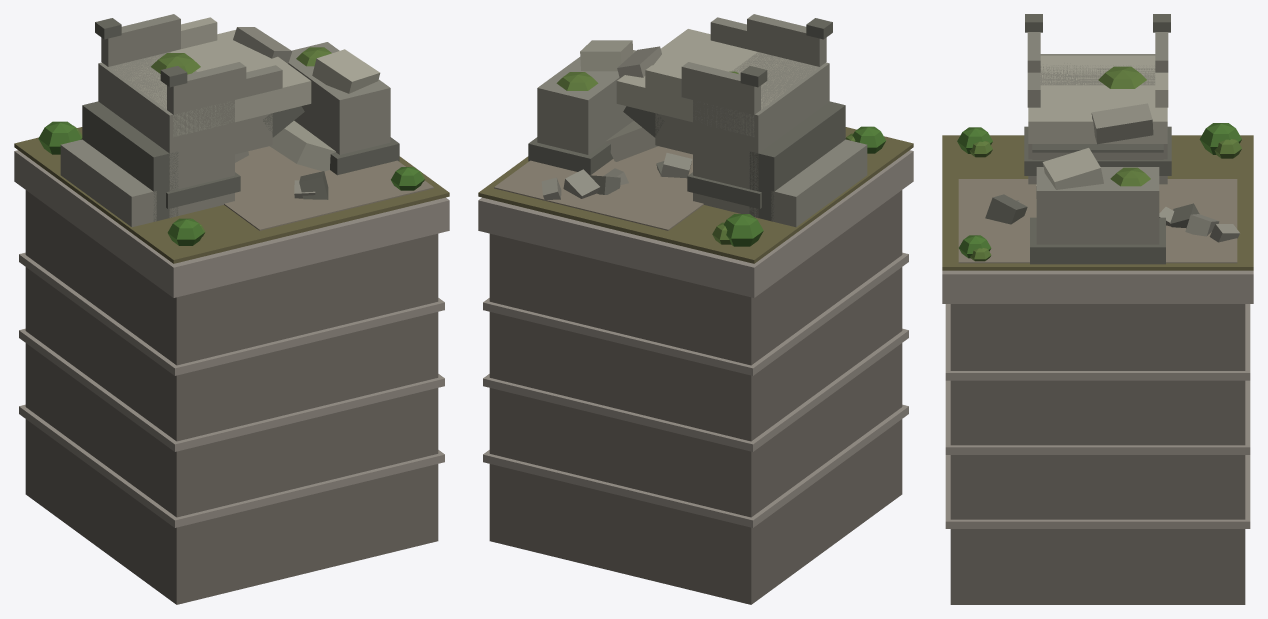
File: decor_broken_bridge.glb
The picture shows the model from 3 angles, left to right: view 1: azimuth 30°, elevation 25°; view 2: azimuth 150°, elevation 25°; view 3: azimuth 270°, elevation 25°; orthographic projection. The views are drawn at different scales.
Parts seen in each view (by area): view 1: decor_broken_bridge; view 2: decor_broken_bridge; view 3: decor_broken_bridge.
Part boxes in pixels (x1,y1,x2,y2): decor_broken_bridge: (14,14,449,604); decor_broken_bridge: (478,14,913,604); decor_broken_bridge: (942,14,1253,604).
Size of the model in its own units: 3.8 by 6.48 by 3.8.
